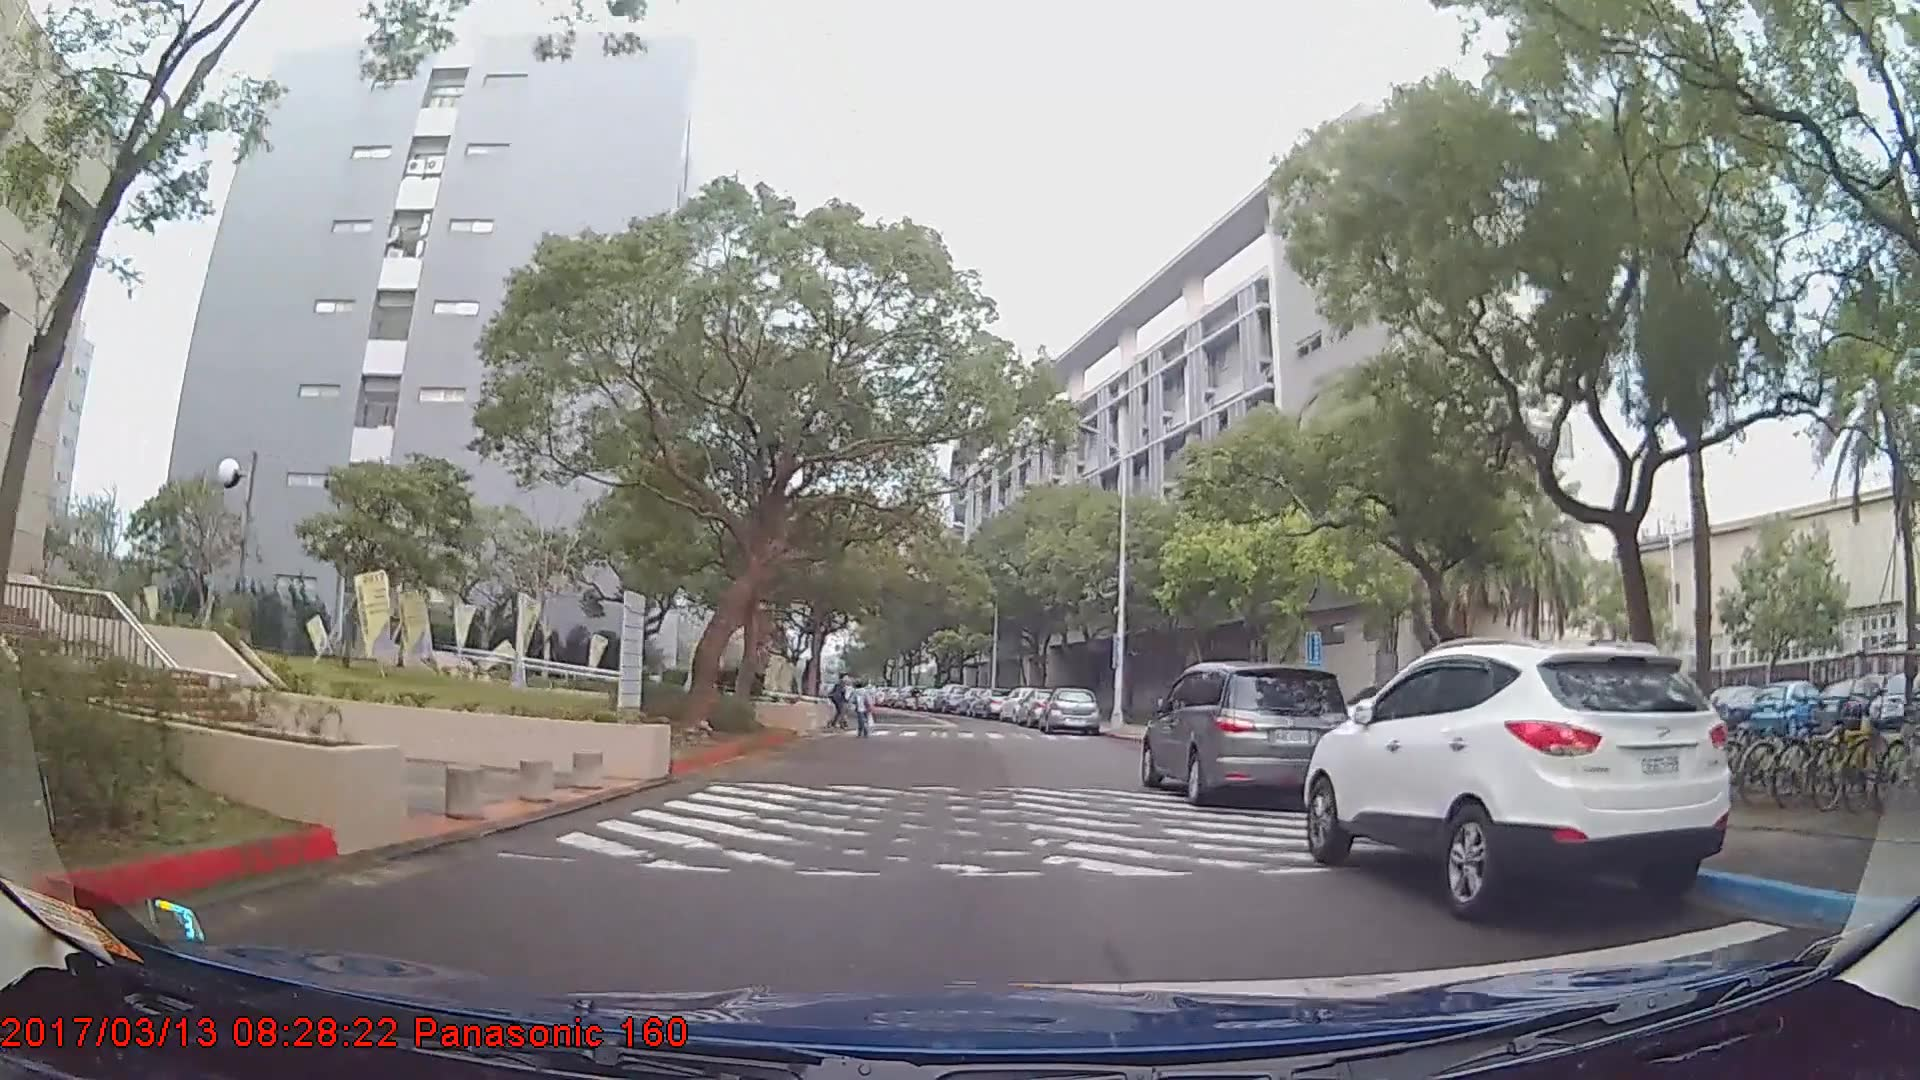pedestrian: (845, 681, 876, 742), (828, 671, 852, 728)
vehicle: (1299, 636, 1736, 922), (1140, 659, 1353, 810), (1810, 674, 1895, 734), (1751, 677, 1832, 737), (1705, 683, 1784, 736), (1043, 683, 1100, 735), (932, 681, 970, 713)
